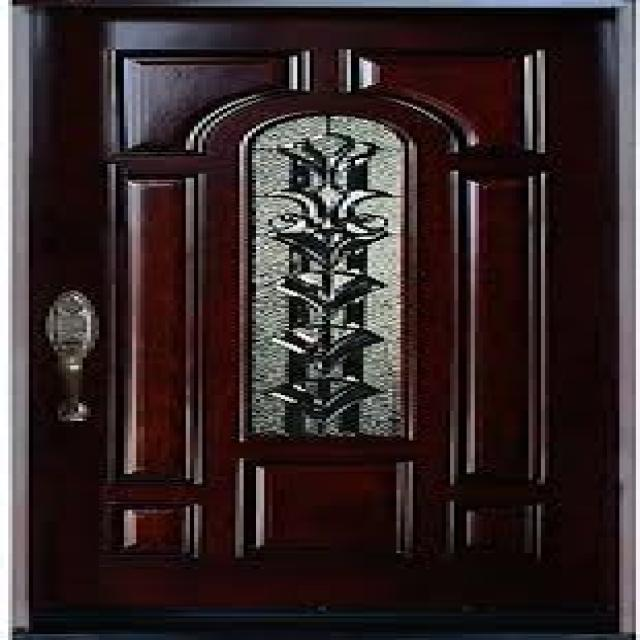door: (17, 2, 628, 634)
